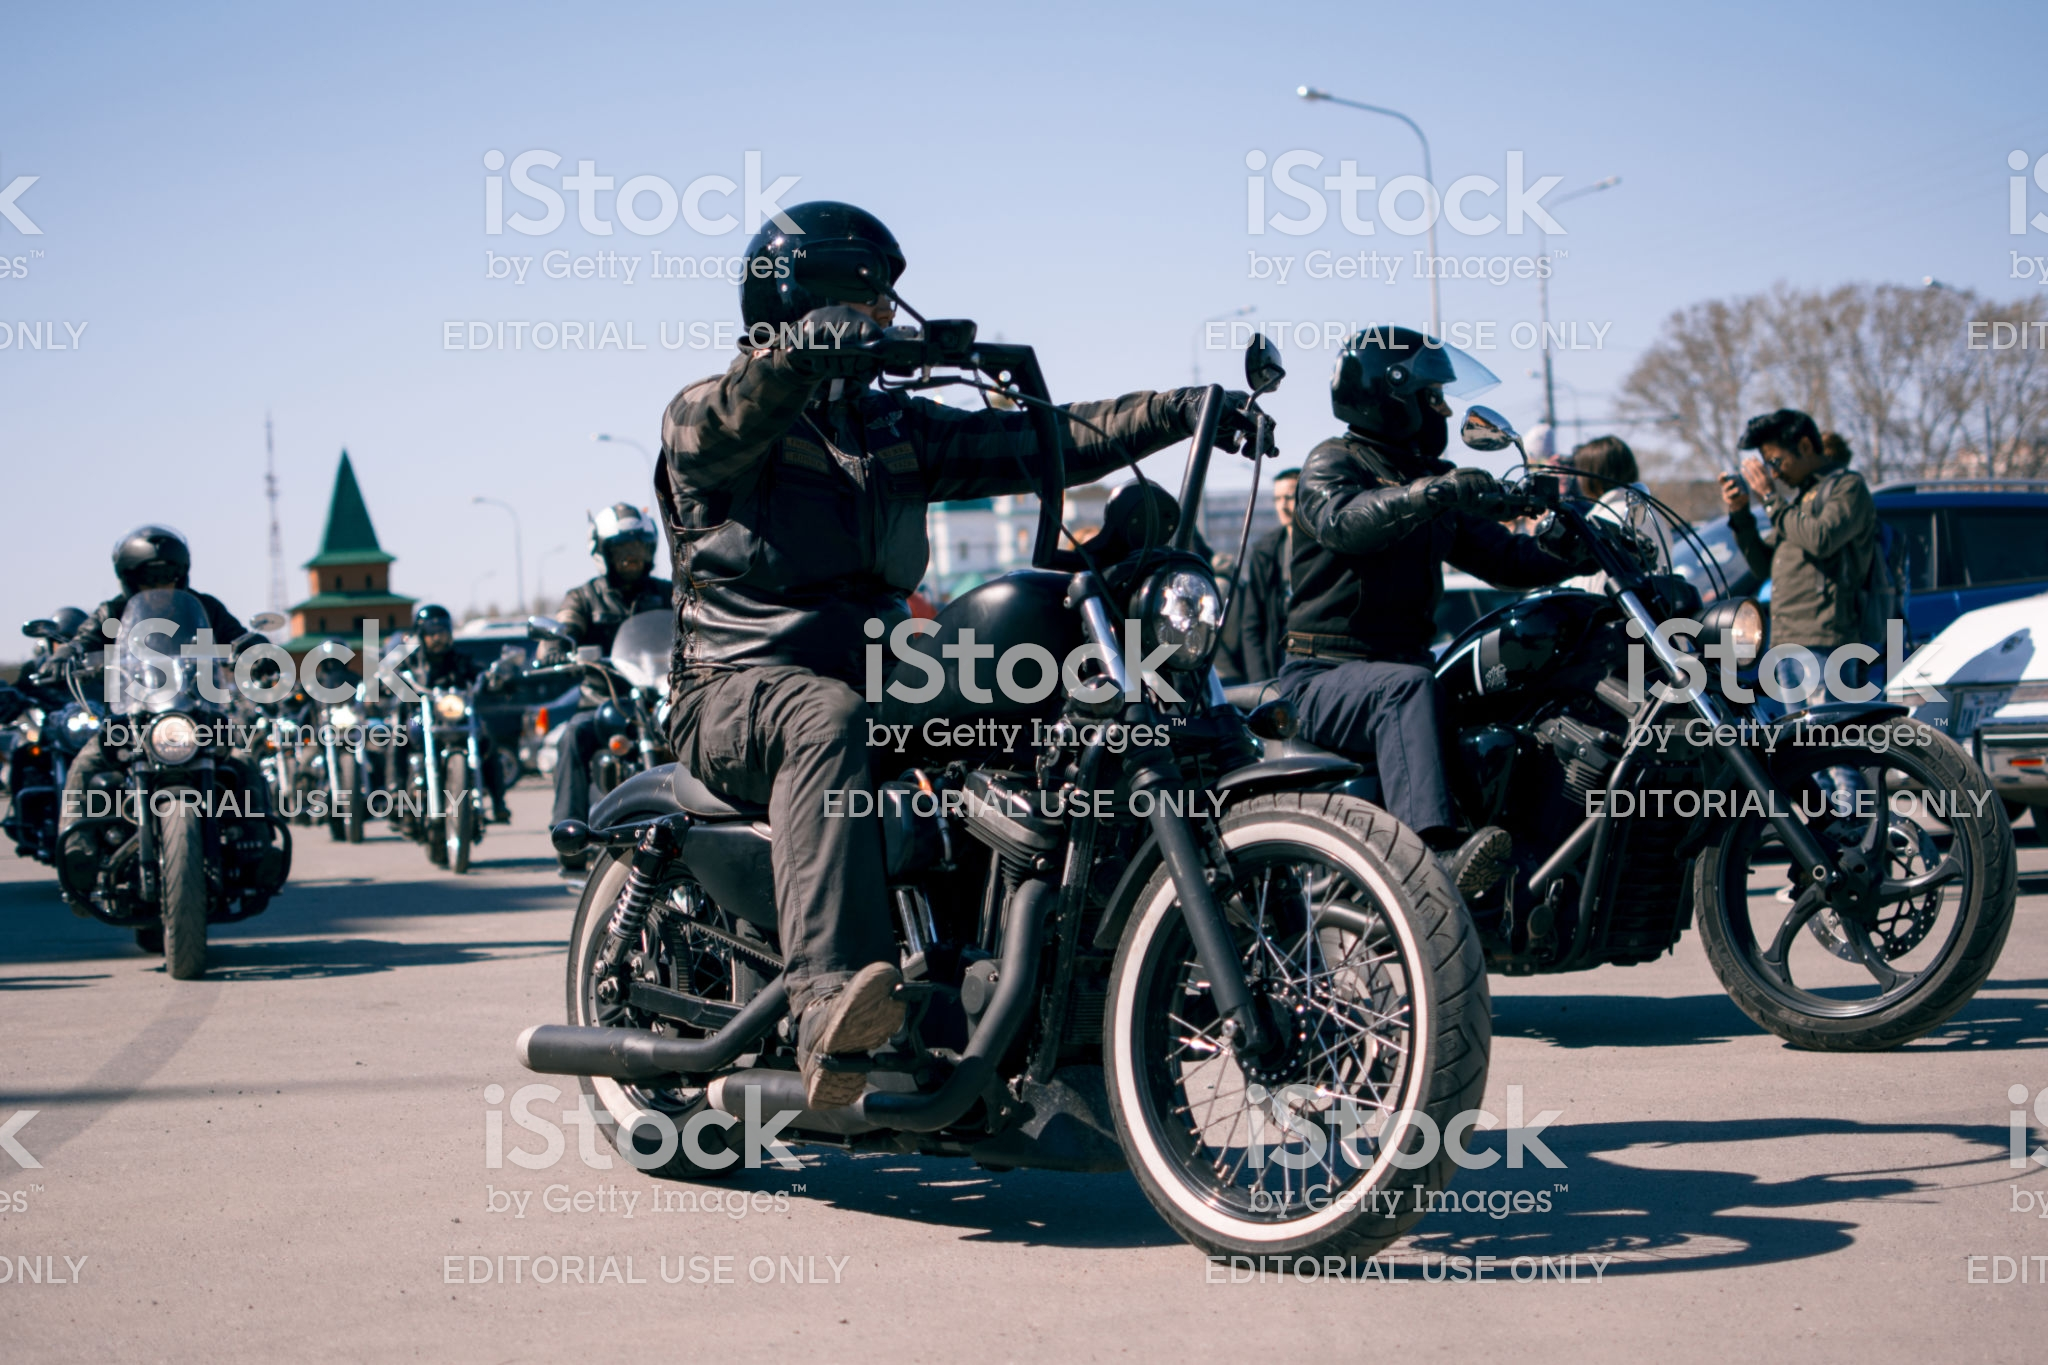helmet: (703, 206, 923, 328), (1329, 318, 1491, 433)
